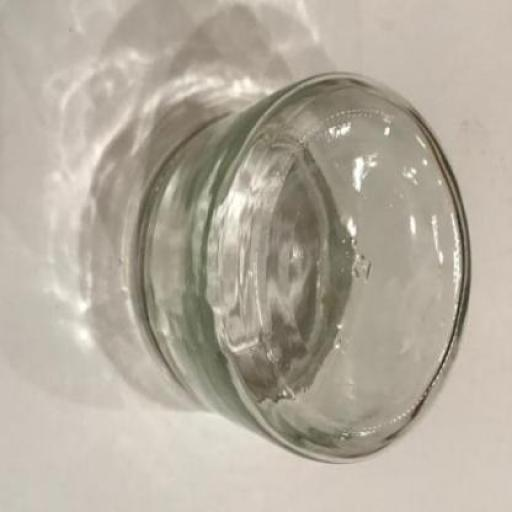glass: (138, 76, 472, 463)
